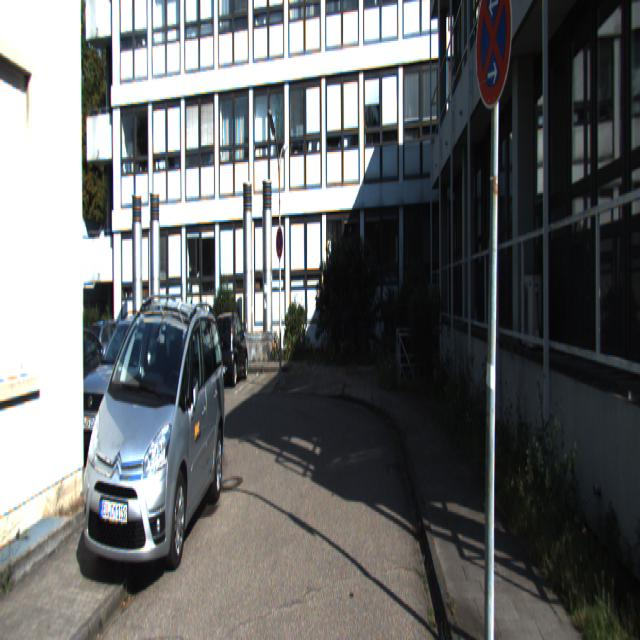Car: (71, 303, 228, 592), (59, 311, 168, 478), (210, 312, 248, 384)
